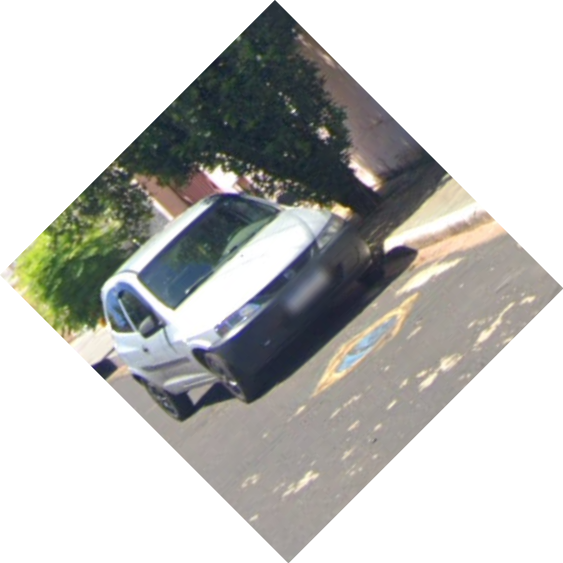car: (92, 188, 385, 437)
